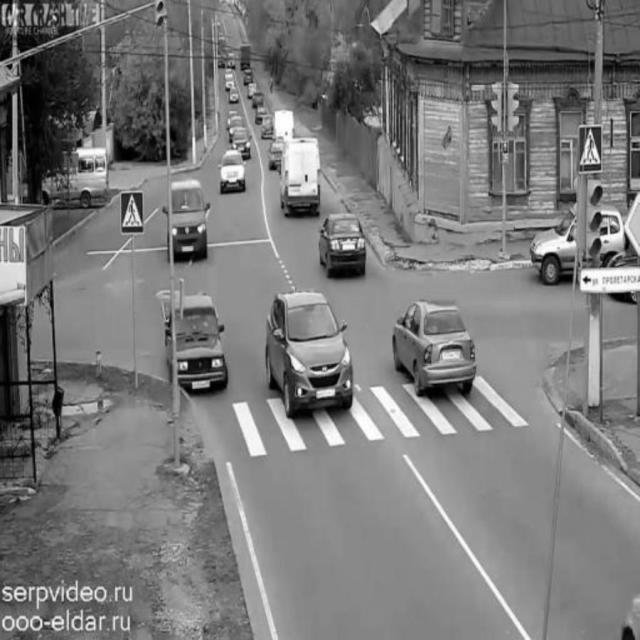vehicle: (264, 295, 354, 413), (392, 296, 478, 394), (531, 210, 624, 283), (166, 292, 228, 394), (41, 145, 108, 209), (318, 212, 369, 282), (281, 139, 323, 219), (165, 179, 206, 260), (218, 150, 250, 190), (231, 122, 251, 157), (269, 133, 286, 173), (236, 43, 254, 70), (259, 115, 273, 139), (250, 89, 266, 109), (227, 85, 242, 103)
